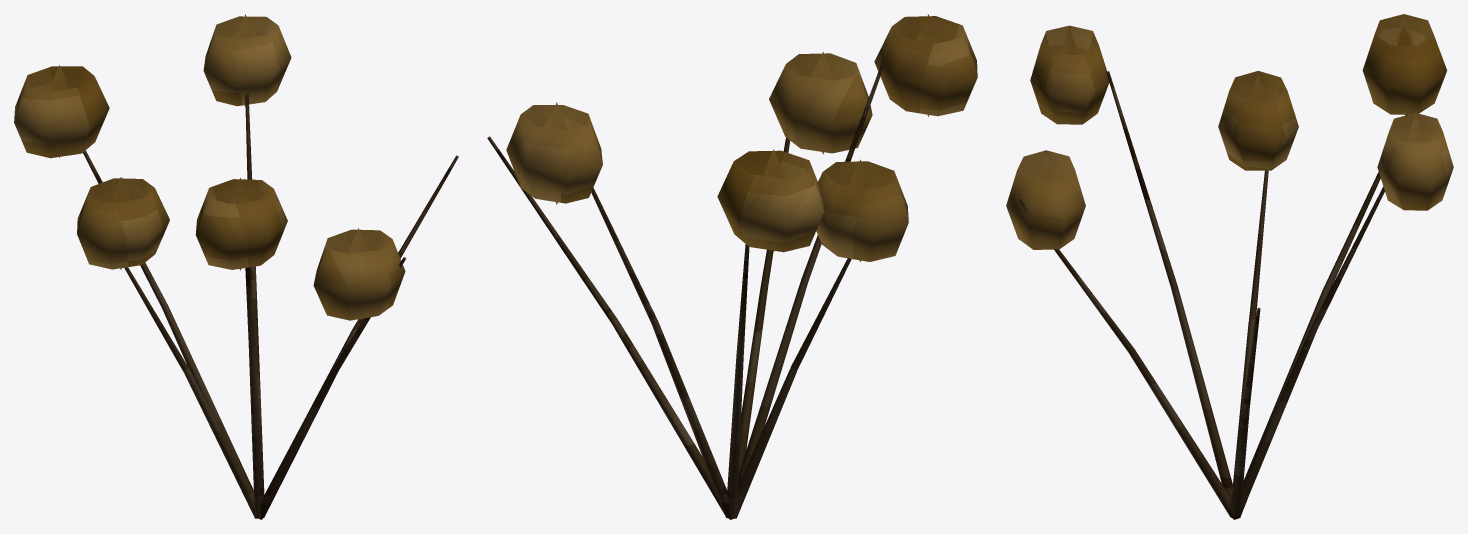
Rendered from filbert_dry03-lod1.glb.
The picture shows the model from 3 angles, left to right: view 1: azimuth 30°, elevation 25°; view 2: azimuth 150°, elevation 25°; view 3: azimuth 270°, elevation 25°; orthographic projection. The views are drawn at different scales.
Parts seen in each view (by area): view 1: TZ_filbert_shrub_Batch_00_LOD1, TZ_filbert_shrub_Batch_01_LOD1; view 2: TZ_filbert_shrub_Batch_00_LOD1, TZ_filbert_shrub_Batch_01_LOD1; view 3: TZ_filbert_shrub_Batch_00_LOD1, TZ_filbert_shrub_Batch_01_LOD1.
Boxes of the visible parts, bbox=[...] form: TZ_filbert_shrub_Batch_00_LOD1: bbox=[14, 14, 405, 320]; TZ_filbert_shrub_Batch_01_LOD1: bbox=[83, 93, 458, 519]; TZ_filbert_shrub_Batch_00_LOD1: bbox=[506, 14, 977, 261]; TZ_filbert_shrub_Batch_01_LOD1: bbox=[487, 58, 885, 519]; TZ_filbert_shrub_Batch_00_LOD1: bbox=[1006, 14, 1453, 249]; TZ_filbert_shrub_Batch_01_LOD1: bbox=[1018, 71, 1407, 519].
Size of the model in its own units: 1.56 by 1.65 by 1.52.
2 materials, 2 textured.
